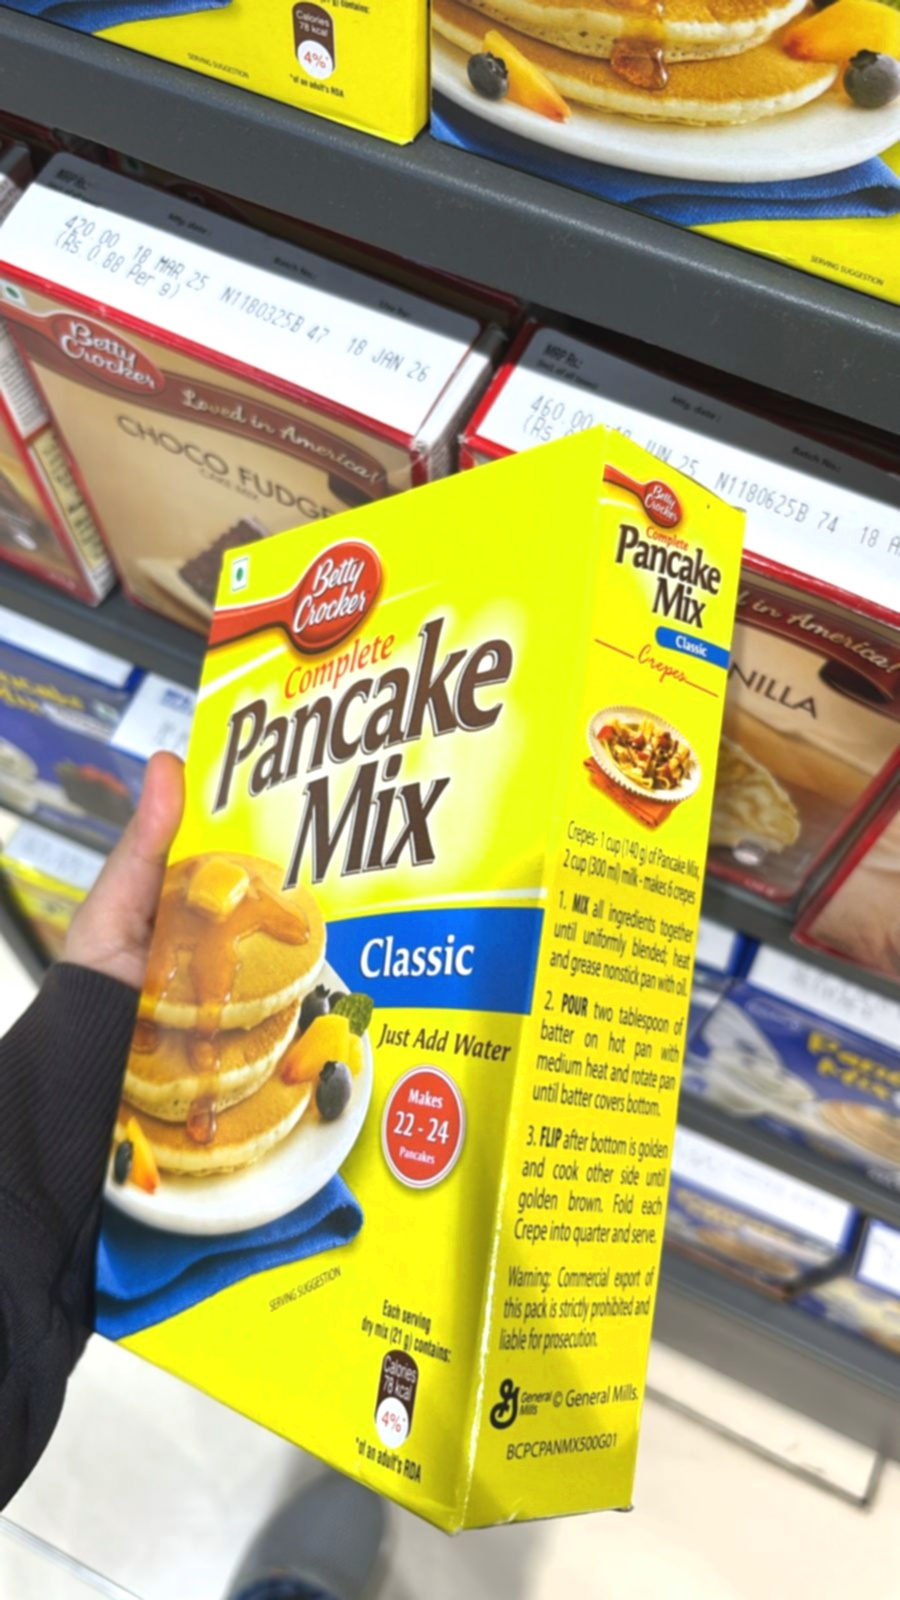Betty Crocker Pancake Mix: (84, 451, 758, 1536)
